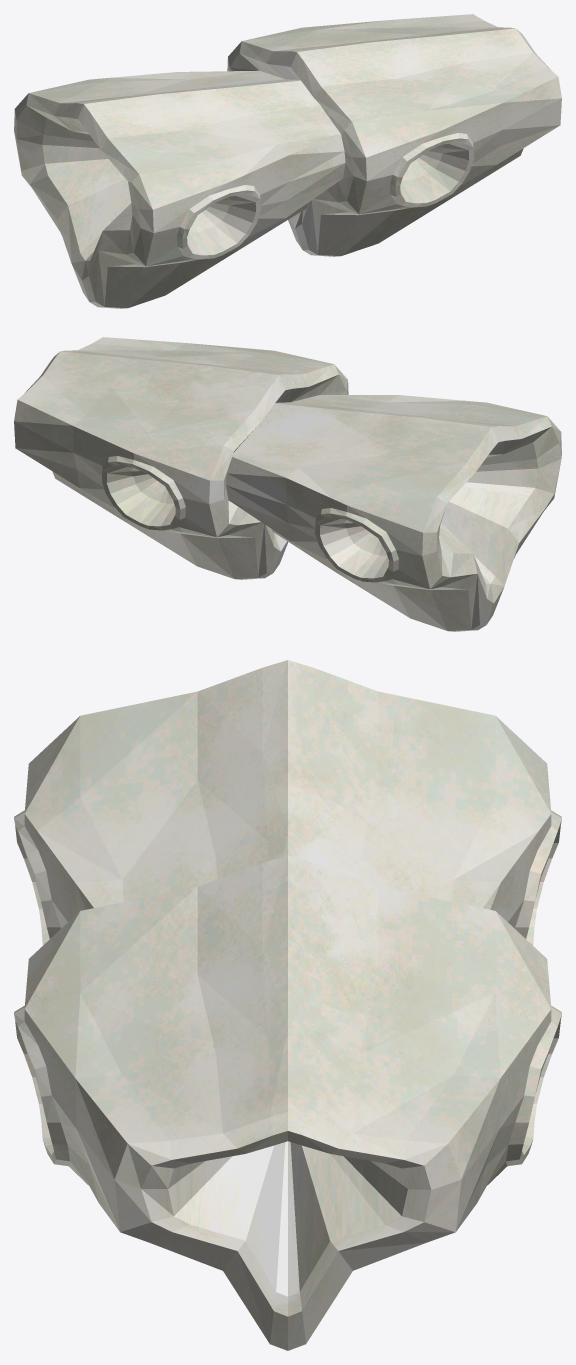
File: stick_c.fbx
3 renders of one model, top to bottom at view 1: azimuth 30°, elevation 25°; view 2: azimuth 150°, elevation 25°; view 3: azimuth 270°, elevation 25°, orthographic. The views are drawn at different scales.
Parts seen in each view (by area): view 1: Stick C; view 2: Stick C; view 3: Stick C.
Part boxes in pixels (x1=…): Stick C: x1=14, y1=14, x2=561, y2=308; Stick C: x1=14, y1=337, x2=561, y2=631; Stick C: x1=14, y1=660, x2=561, y2=1350.
Size of the model in its own units: 1020 by 469 by 580.
Materials: 1 (1 with a texture image).
